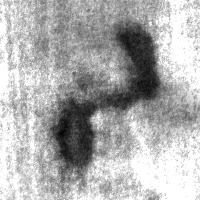patches: (36, 0, 158, 67), (107, 24, 158, 110), (133, 76, 199, 142), (55, 100, 95, 169), (0, 162, 60, 200)
